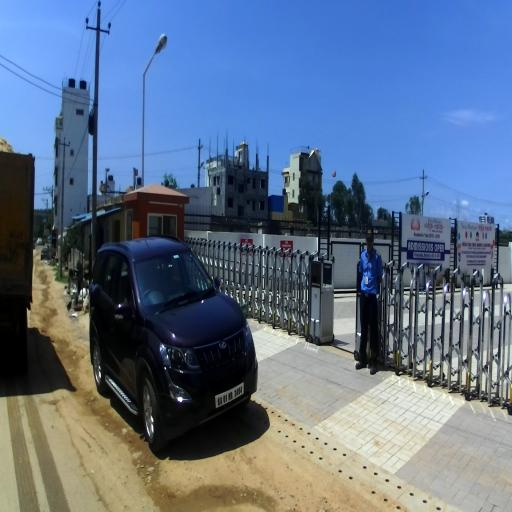street_light_0: (143, 33, 167, 81), (198, 160, 204, 171)
